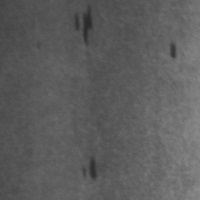inclusion: (72, 3, 96, 48), (78, 153, 101, 184), (167, 39, 180, 62)
